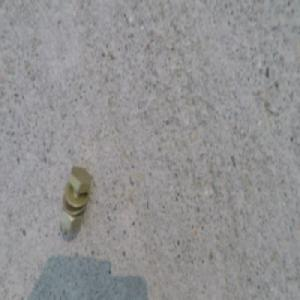BoltNutSet: (57, 161, 89, 233)
